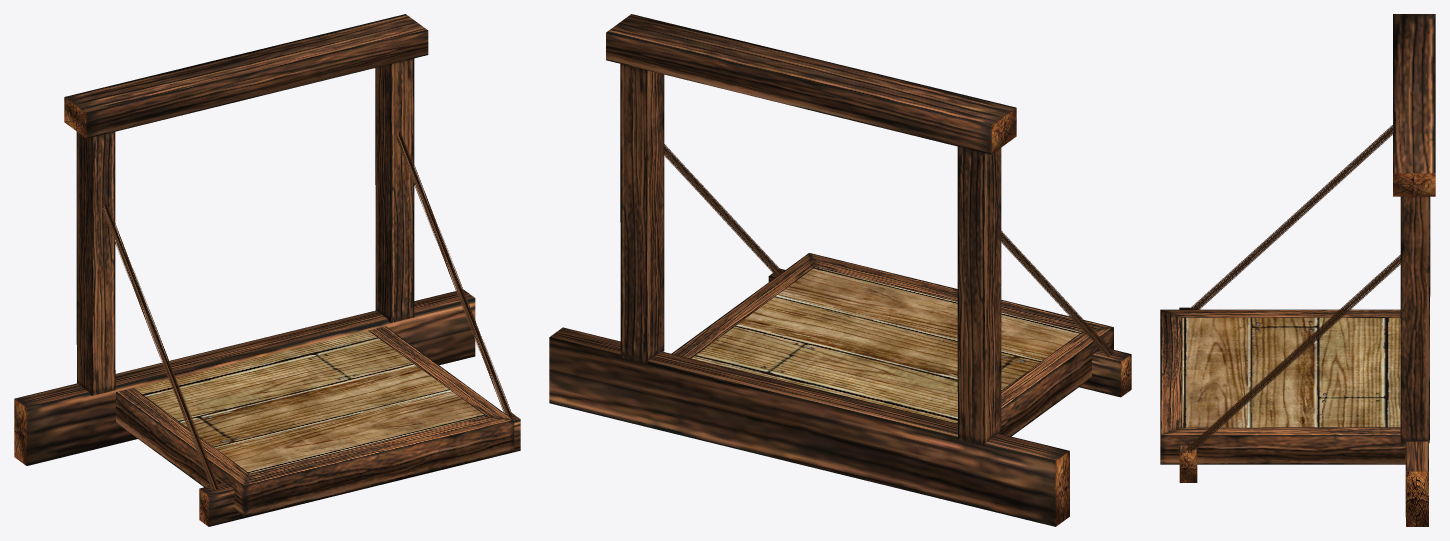
Rendered from LAKETOWN_WAREHOUSE2_PS_WH2_PLAT_3635__GX01.fbx.
3 renders of one model, left to right at view 1: azimuth 30°, elevation 25°; view 2: azimuth 150°, elevation 25°; view 3: azimuth 270°, elevation 25°, orthographic. The views are drawn at different scales.
Visible parts, largest first — view 1: LAKETOWN_WAREHOUSE2_PS_WH2_PLAT_3635__GX01; view 2: LAKETOWN_WAREHOUSE2_PS_WH2_PLAT_3635__GX01; view 3: LAKETOWN_WAREHOUSE2_PS_WH2_PLAT_3635__GX01.
Boxes of the visible parts, x1,y1,x2,y2 form: LAKETOWN_WAREHOUSE2_PS_WH2_PLAT_3635__GX01: (14,14,520,526); LAKETOWN_WAREHOUSE2_PS_WH2_PLAT_3635__GX01: (549,14,1131,526); LAKETOWN_WAREHOUSE2_PS_WH2_PLAT_3635__GX01: (1160,14,1435,526).
Size of the model in its own units: 33243 by 24378 by 18506.
Materials: 5 (5 with a texture image).
